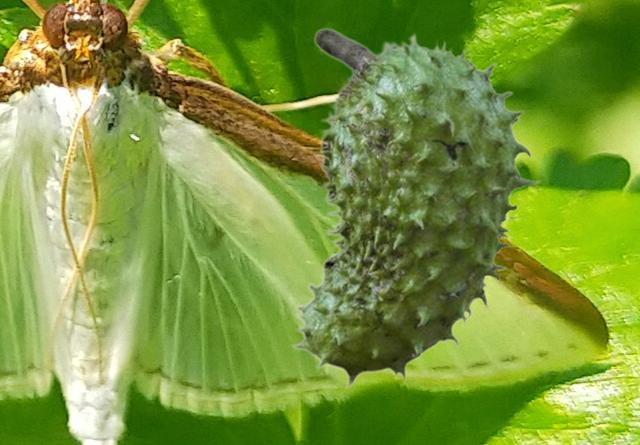guyabano: (290, 27, 540, 389)
